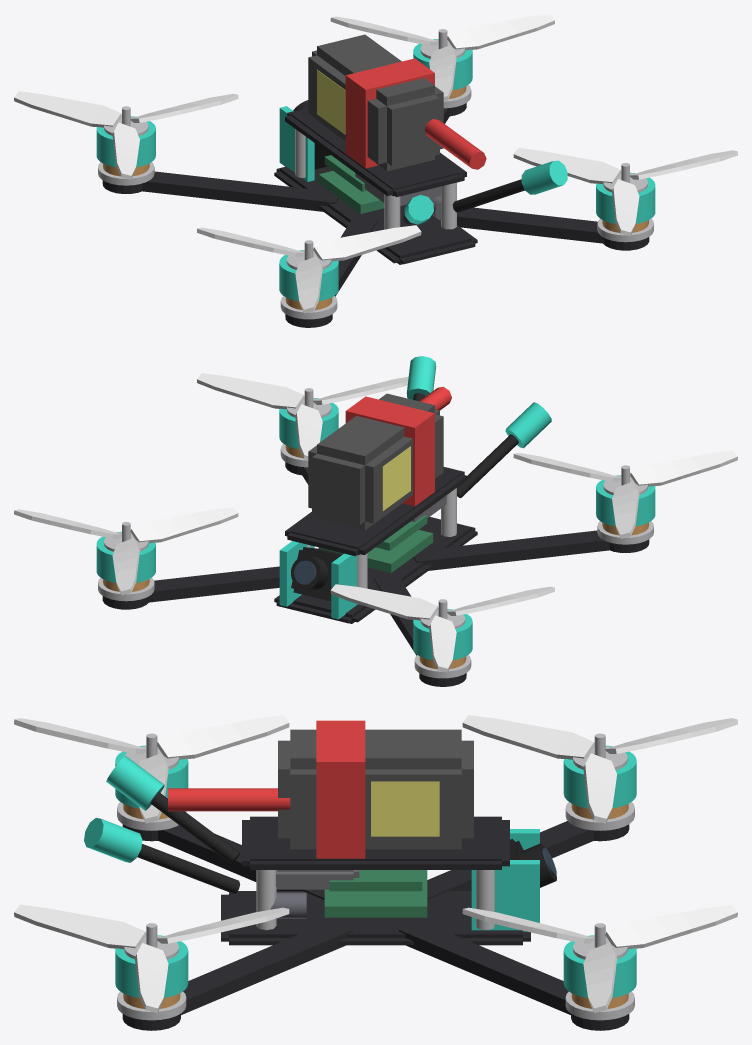
Rendered from toothpick3.glb.
3 renders of one model, top to bottom at view 1: azimuth 30°, elevation 25°; view 2: azimuth 150°, elevation 25°; view 3: azimuth 270°, elevation 25°, orthographic. The views are drawn at different scales.
Visible parts, largest first — view 1: body, prop_RL, prop_FL, prop_FR, prop_RR, cam_mount; view 2: body, prop_FR, prop_FL, prop_RL, prop_RR, cam_mount, fpv_cam; view 3: body, prop_FR, prop_RR, prop_FL, prop_RL, cam_mount, fpv_cam.
Boxes of the visible parts, x1=… form: body: x1=96, y1=29, x2=655, y2=327; prop_RL: x1=197, y1=225, x2=421, y2=313; prop_FL: x1=14, y1=91, x2=238, y2=179; prop_FR: x1=330, y1=14, x2=554, y2=100; prop_RR: x1=513, y1=148, x2=737, y2=236; cam_mount: x1=279, y1=106, x2=314, y2=181; body: x1=96, y1=356, x2=655, y2=686; prop_FR: x1=14, y1=507, x2=238, y2=595; prop_FL: x1=330, y1=584, x2=554, y2=672; prop_RL: x1=513, y1=450, x2=737, y2=538; prop_RR: x1=197, y1=373, x2=408, y2=459; cam_mount: x1=279, y1=541, x2=357, y2=619; fpv_cam: x1=291, y1=547, x2=342, y2=600; body: x1=84, y1=720, x2=636, y2=1030; prop_FR: x1=462, y1=904, x2=737, y2=1013; prop_RR: x1=14, y1=904, x2=289, y2=1013; prop_FL: x1=462, y1=715, x2=737, y2=823; prop_RL: x1=14, y1=715, x2=289, y2=823; cam_mount: x1=471, y1=829, x2=539, y2=931; fpv_cam: x1=510, y1=838, x2=556, y2=887.
Size of the model in its own units: 0.1685 by 0.0517 by 0.1775.
